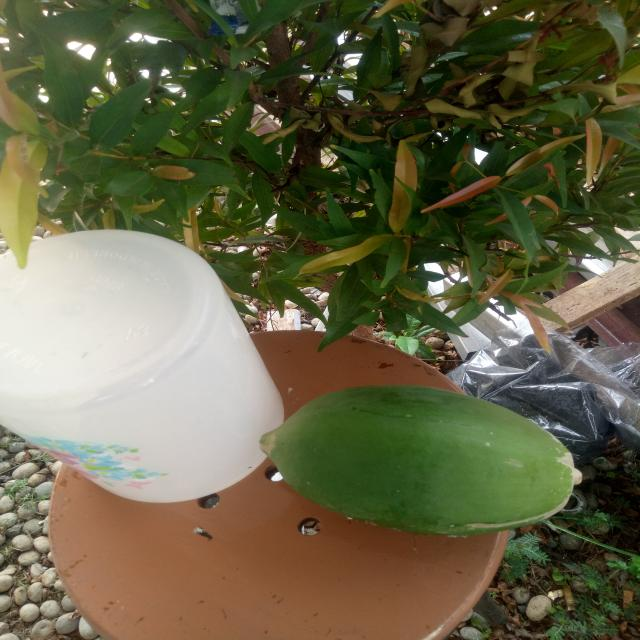Pepaya unrippen: (249, 381, 591, 546)
